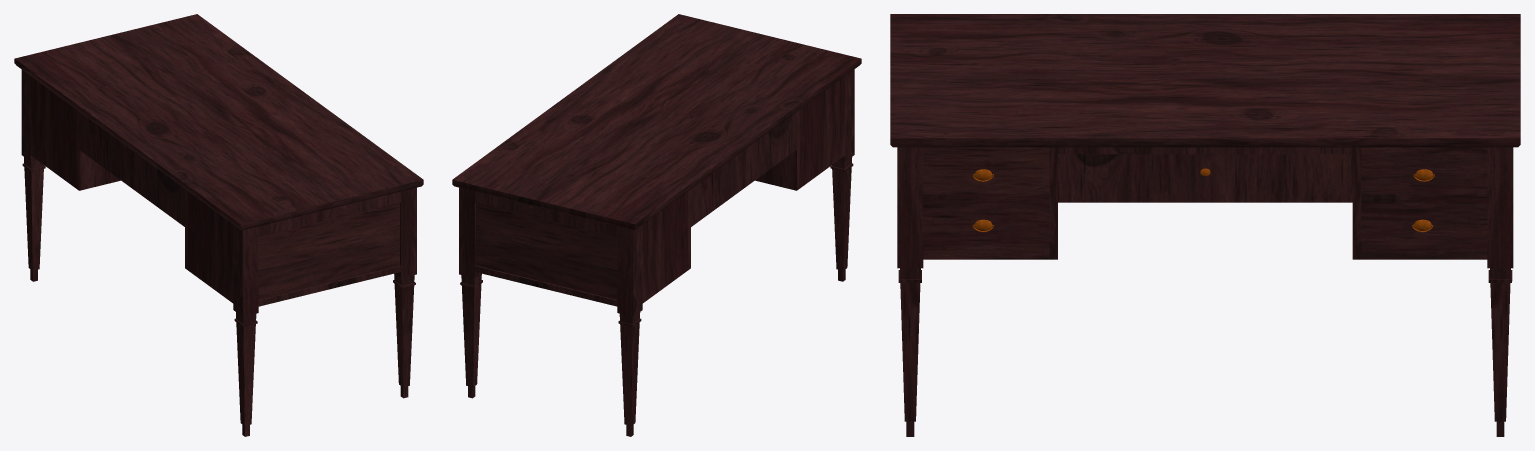
The model's file is table2.fbx.
3 renders of one model, left to right at view 1: azimuth 30°, elevation 25°; view 2: azimuth 150°, elevation 25°; view 3: azimuth 270°, elevation 25°, orthographic. The views are drawn at different scales.
Parts seen in each view (by area): view 1: uploads_files_983898_SM_Table_02; view 2: uploads_files_983898_SM_Table_02; view 3: uploads_files_983898_SM_Table_02, uploads_files_983898_SM_Table_02.001.
Boxes of the visible parts, x1,y1,x2,y2 form: uploads_files_983898_SM_Table_02: [14, 14, 423, 436]; uploads_files_983898_SM_Table_02: [452, 14, 861, 436]; uploads_files_983898_SM_Table_02: [890, 14, 1520, 436]; uploads_files_983898_SM_Table_02.001: [972, 168, 1434, 232].
Size of the model in its own units: 1835 by 2101 by 3932.
2 materials, 2 textured.
